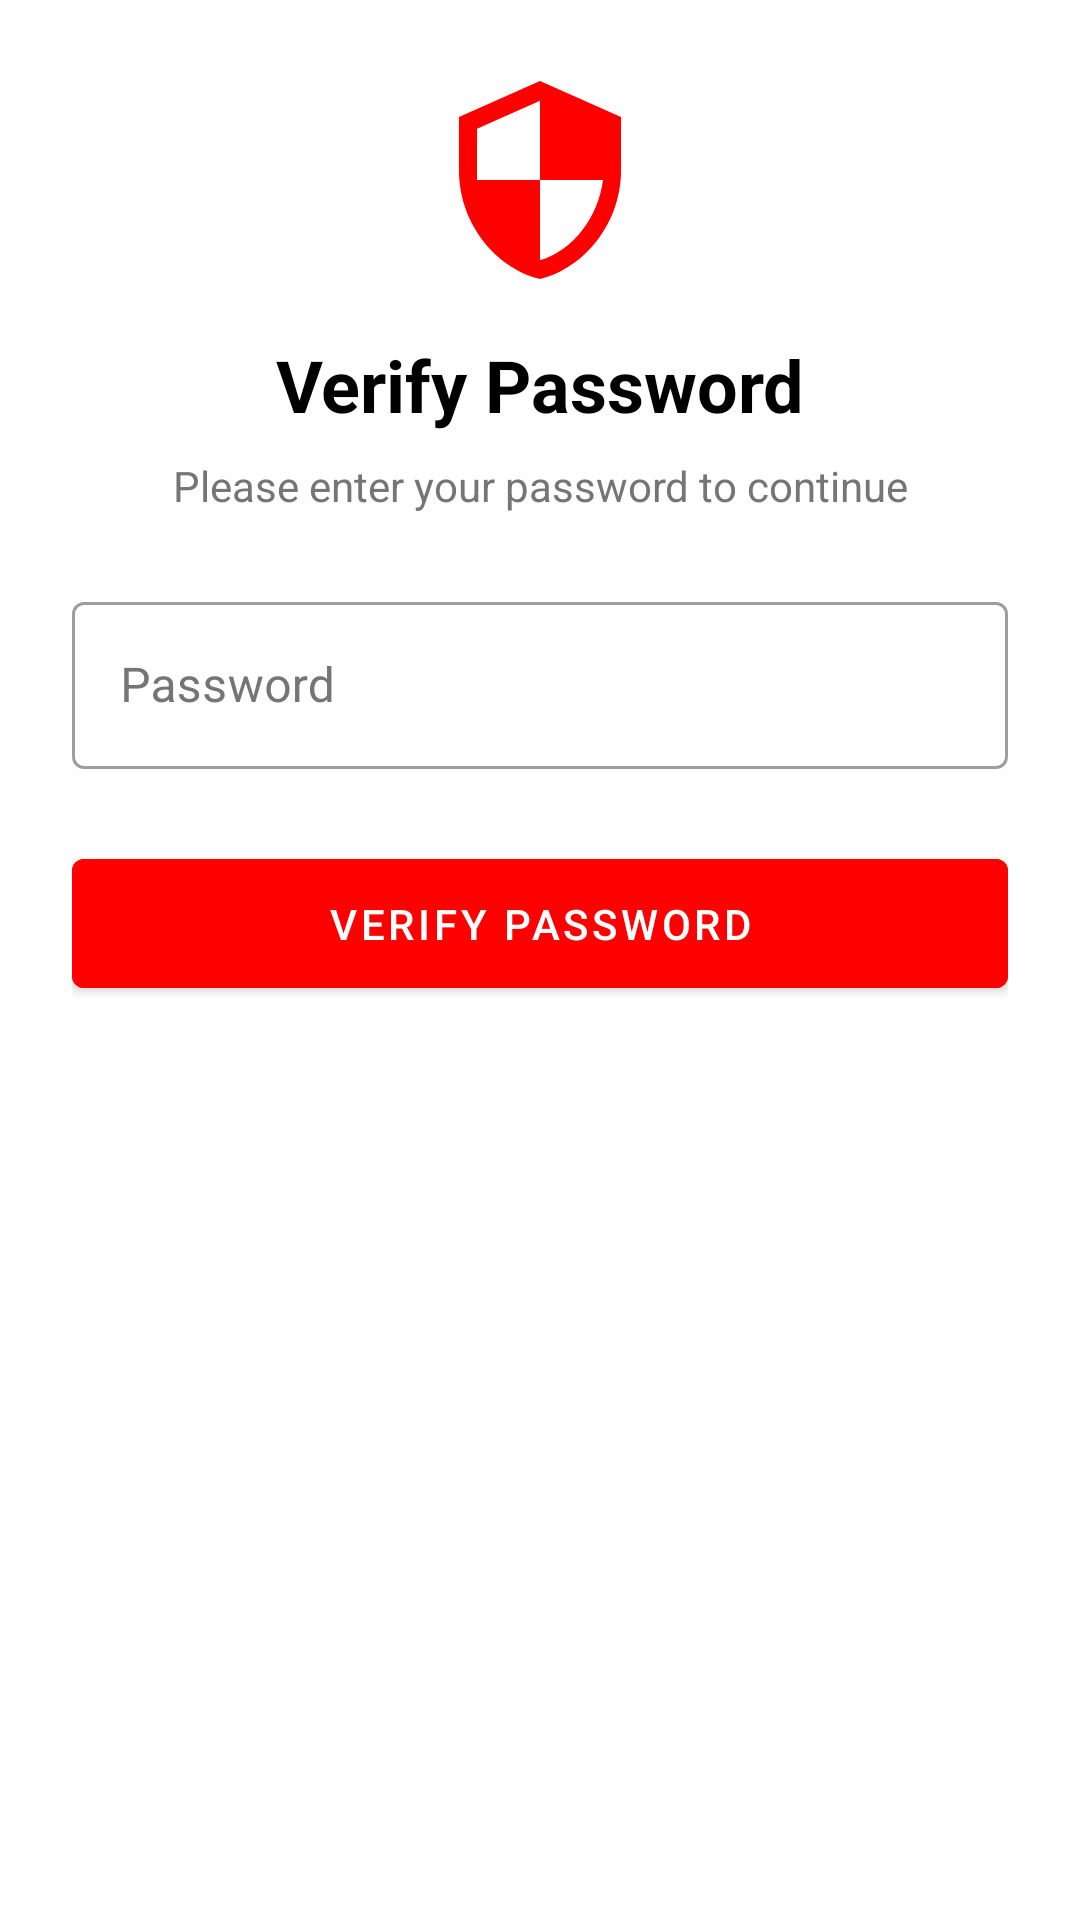

Named icons in this screenshot (1080 x 1920) and their centers, [x,y]:
Password Shield Icon: [540,180]
